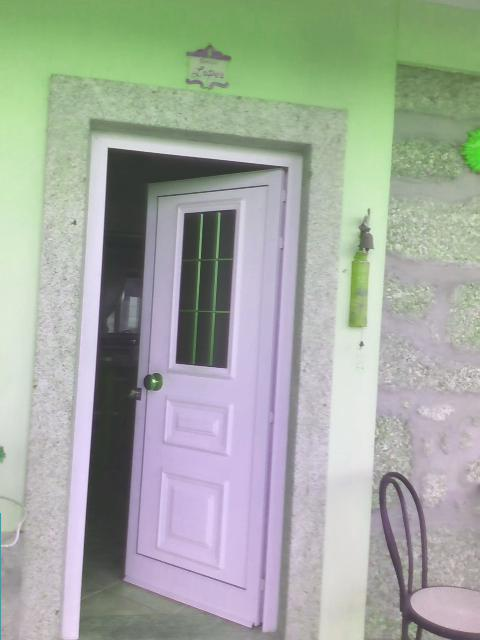semi_door: (61, 116, 310, 639)
